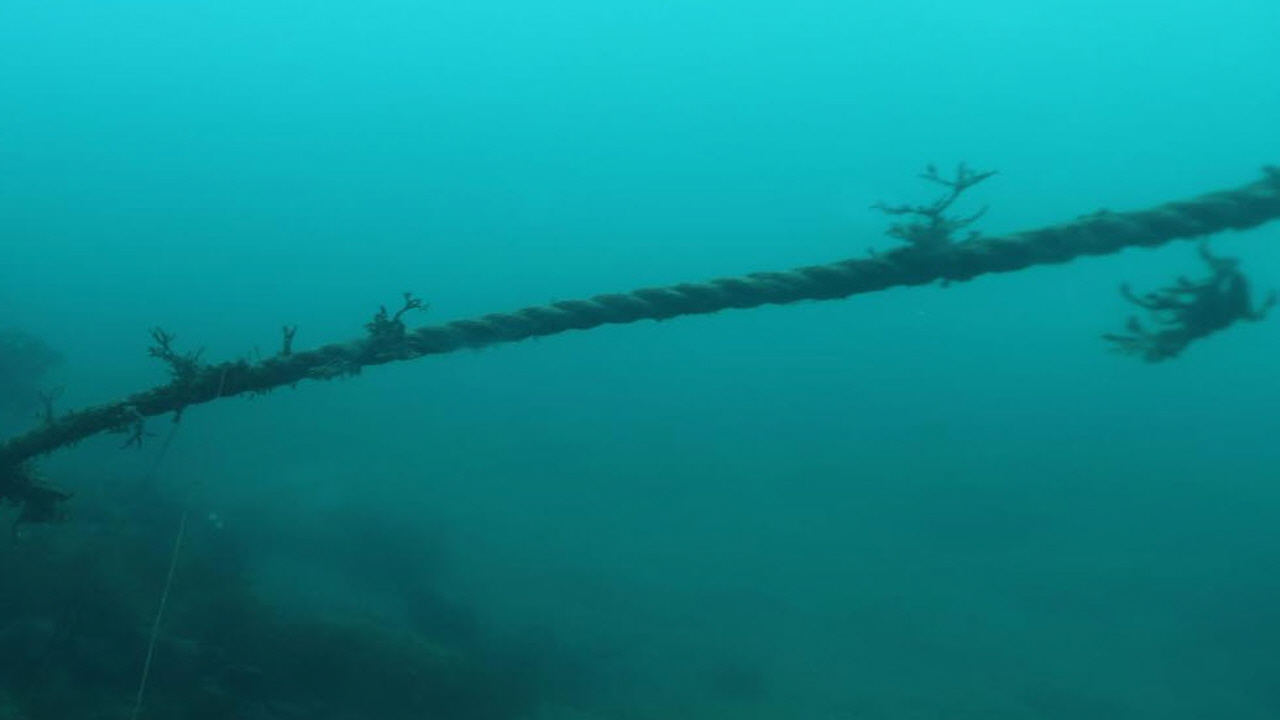rope: (0, 167, 1279, 467)
